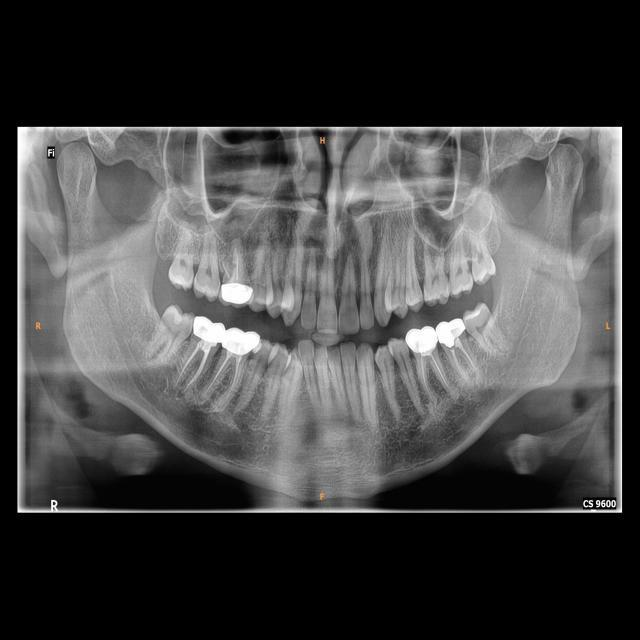kanal-tedavisi: (210, 356, 243, 400), (415, 350, 447, 394), (182, 344, 208, 386), (450, 342, 479, 377), (224, 244, 243, 284)
kaplama: (222, 325, 260, 356), (190, 316, 226, 344), (406, 325, 439, 355), (432, 317, 466, 346), (220, 282, 253, 308)
